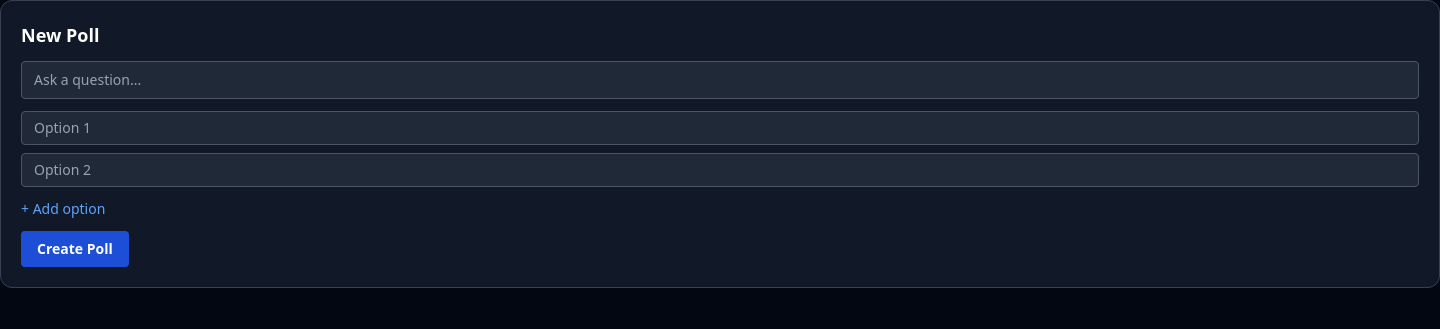
Test: CreatePoll › shows error when submitting with empty options
Type "What is best?" into the field with placeholder "Ask a question..." at (720, 80), box [21,61,1419,99]
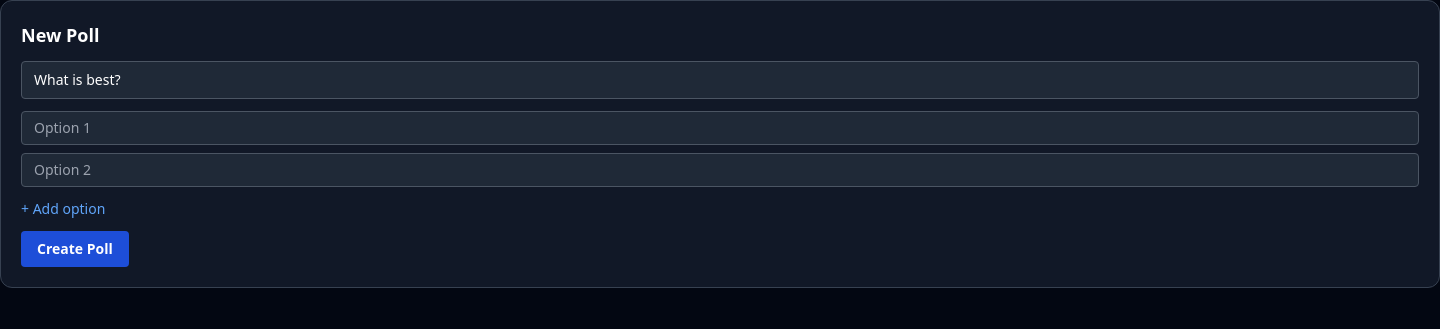
Submit the text "Create Poll"
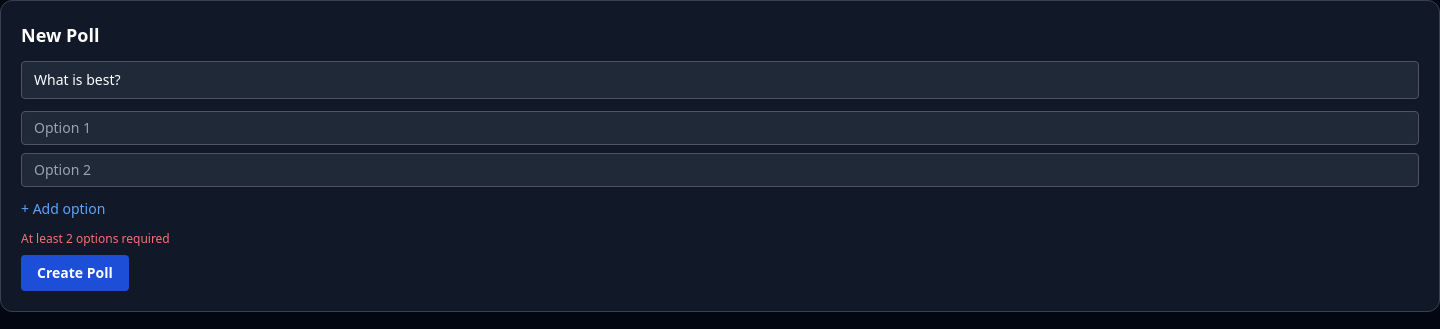
Check: the text "At least 2 options required" is shown, box [21,230,170,247]
